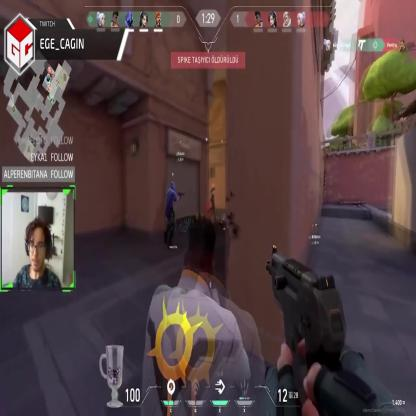enemy: (209, 183, 216, 222)
enemy_head: (212, 183, 215, 190)
